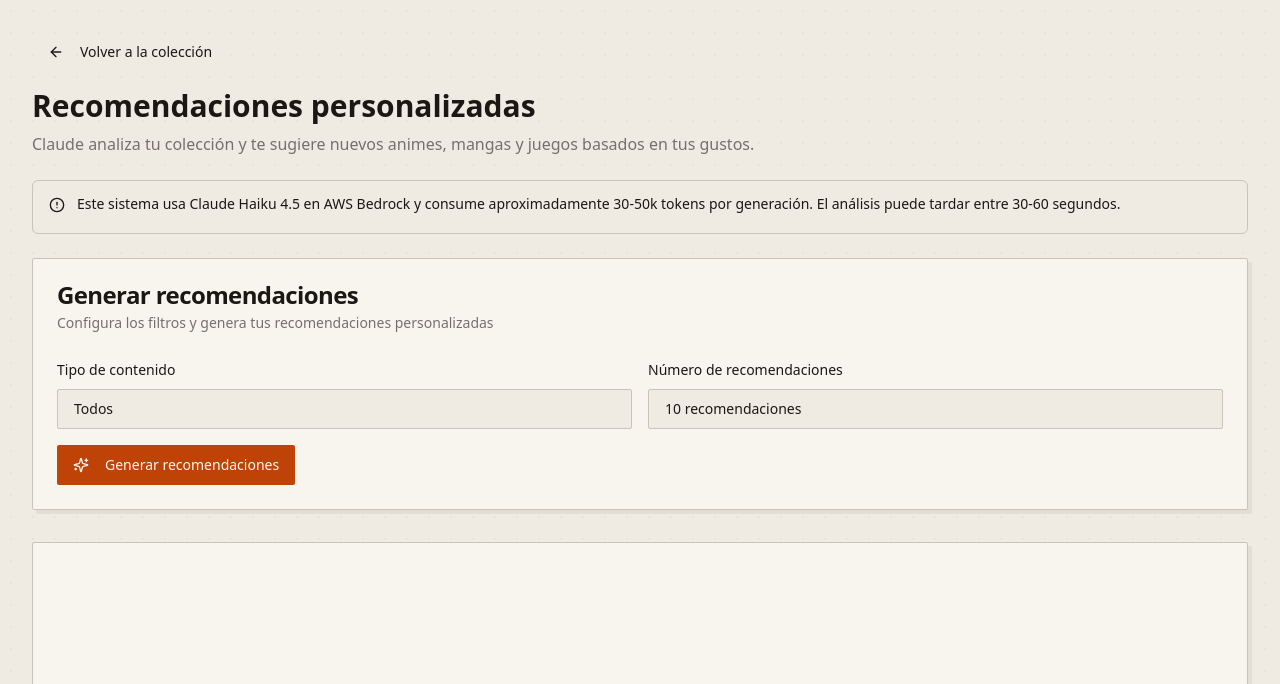
Test: RecommendationsPage › filtro de límite cambia estado
Click the button "10 recomendaciones" at (741, 408), box [648, 389, 1223, 429]
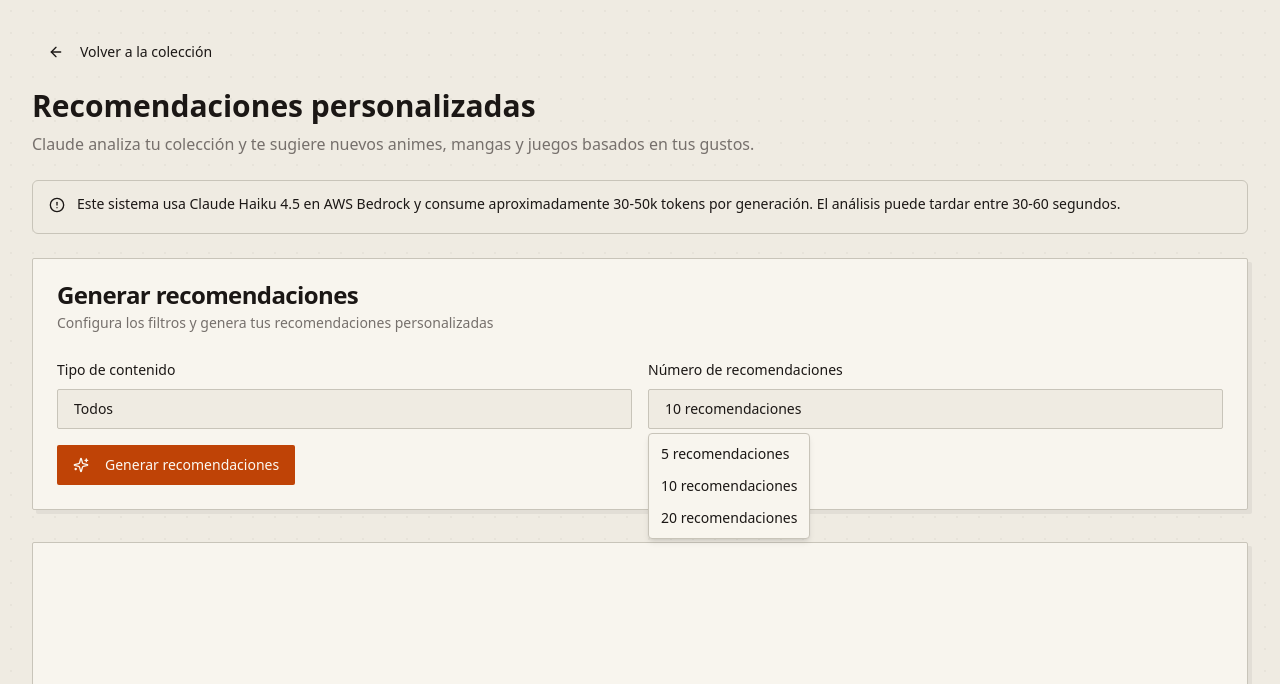
Click the menu item "5 recomendaciones" at (725, 454), box [661, 444, 789, 463]
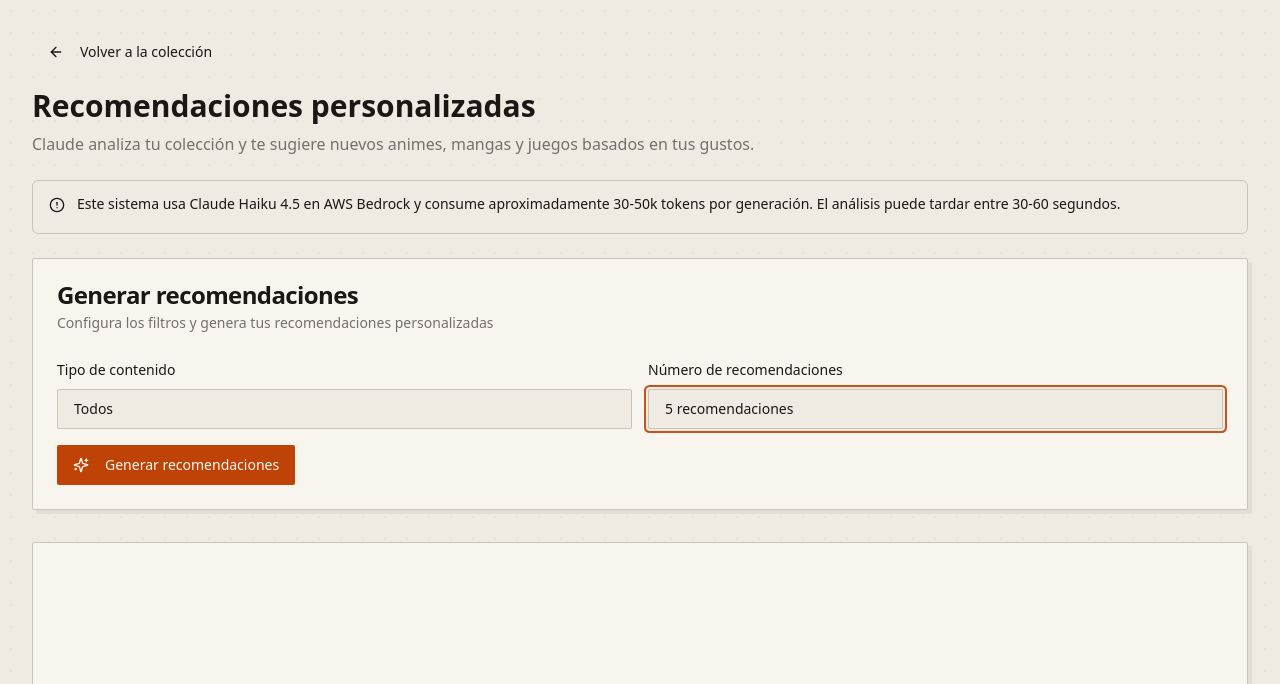
Expected: the button "5 recomendaciones" is shown, [648, 389, 1223, 429]
